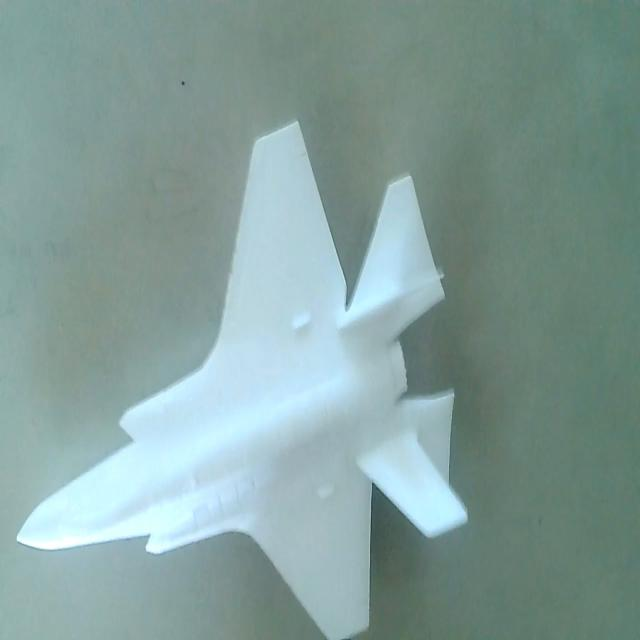Jet: (14, 114, 468, 640)
